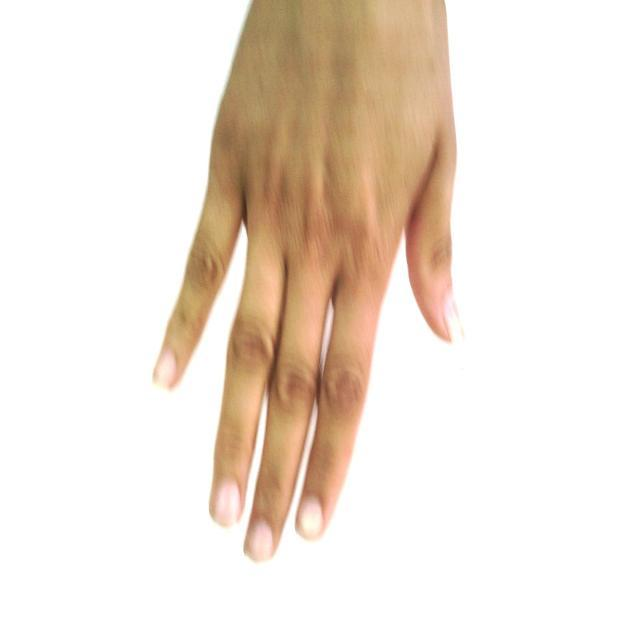Fingernail: (215, 481, 240, 527), (445, 294, 466, 346), (299, 497, 323, 539), (248, 522, 273, 561), (155, 350, 176, 390)
